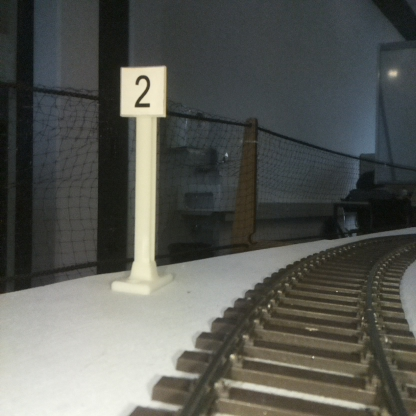white-info-2: (119, 66, 165, 290)
